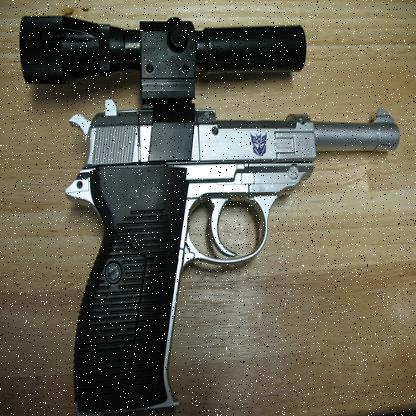pistol: (67, 95, 401, 414)
